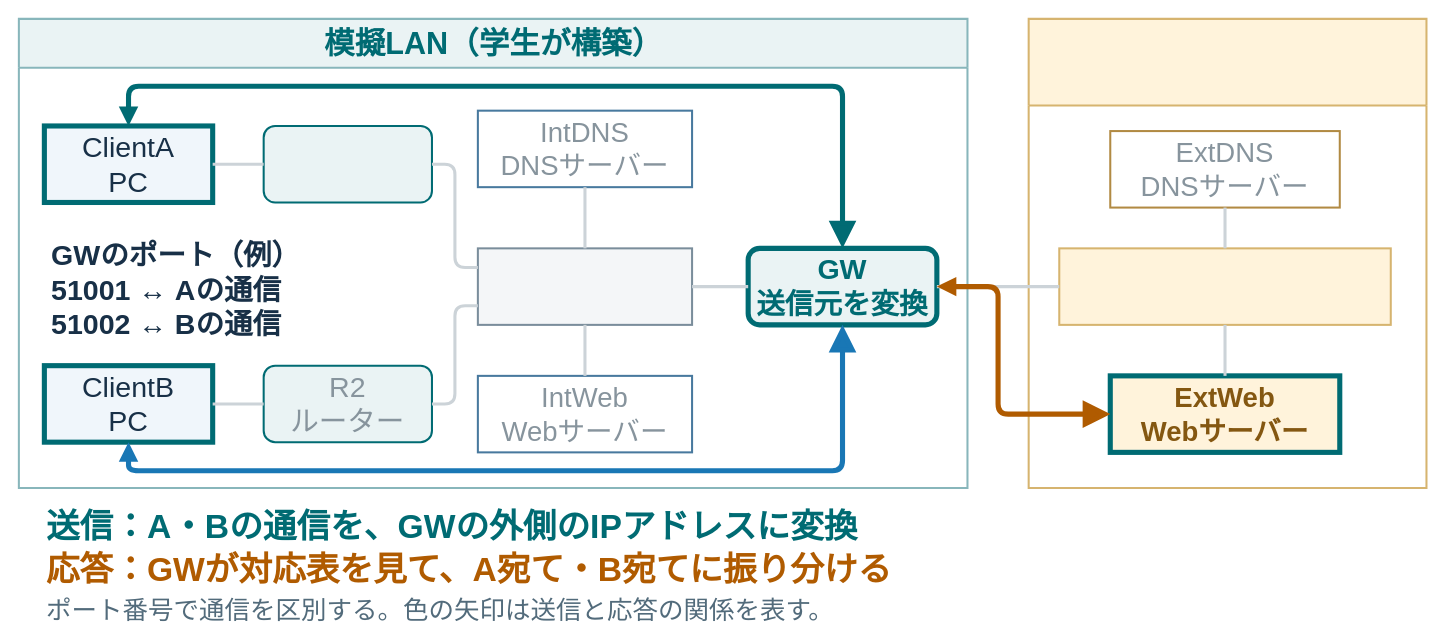
The diagram is 1444 pixels wide and 644 high, and some of its shapes have lost their labels. The box of each missing label's shape, as (x1, y1, x2, y2) in pixels:
R1 ルーター: (262, 124, 432, 203)
スイッチ （中継）: (476, 247, 693, 325)
外部ネットワーク: (1058, 247, 1391, 325)
模擬インターネット （教員が準備）: (1027, 17, 1427, 489)
